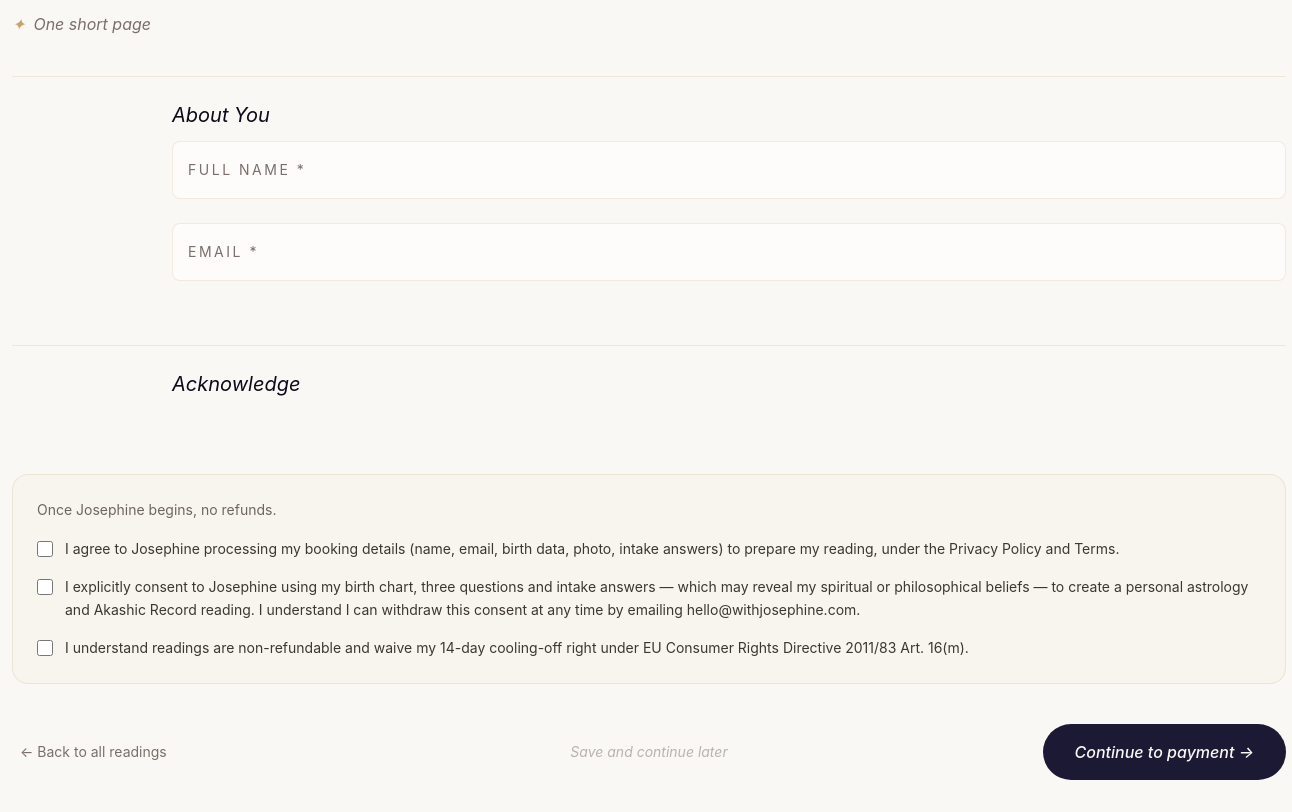
Test: IntakeForm — localStorage save/resume › enables Save and continue later once any field has a value
The width and height of the screenshot is (1292, 812).
Type "A" into the field labelled "Full name *". click: (729, 170)
box: [172,141,1286,199]
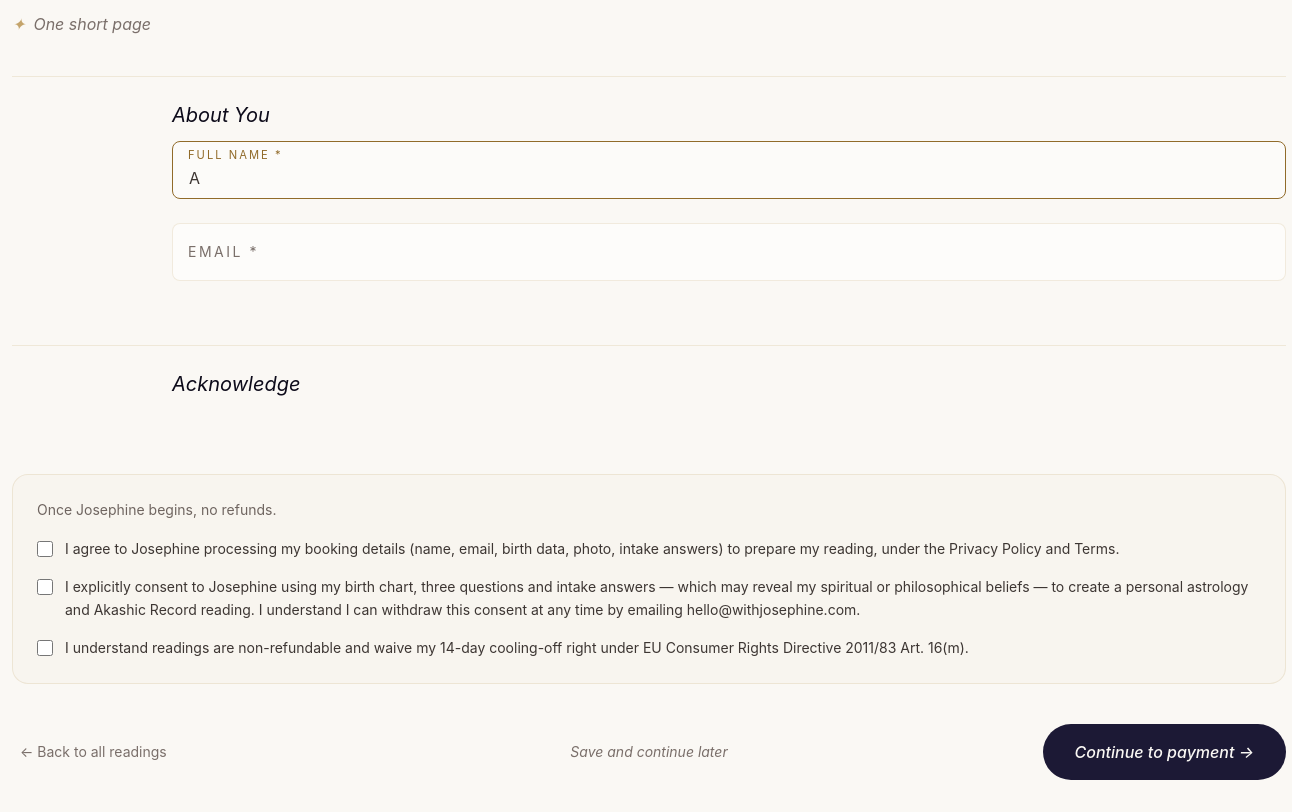
Expected: the button "Save and continue later" is enabled, [562,730,736,774]
